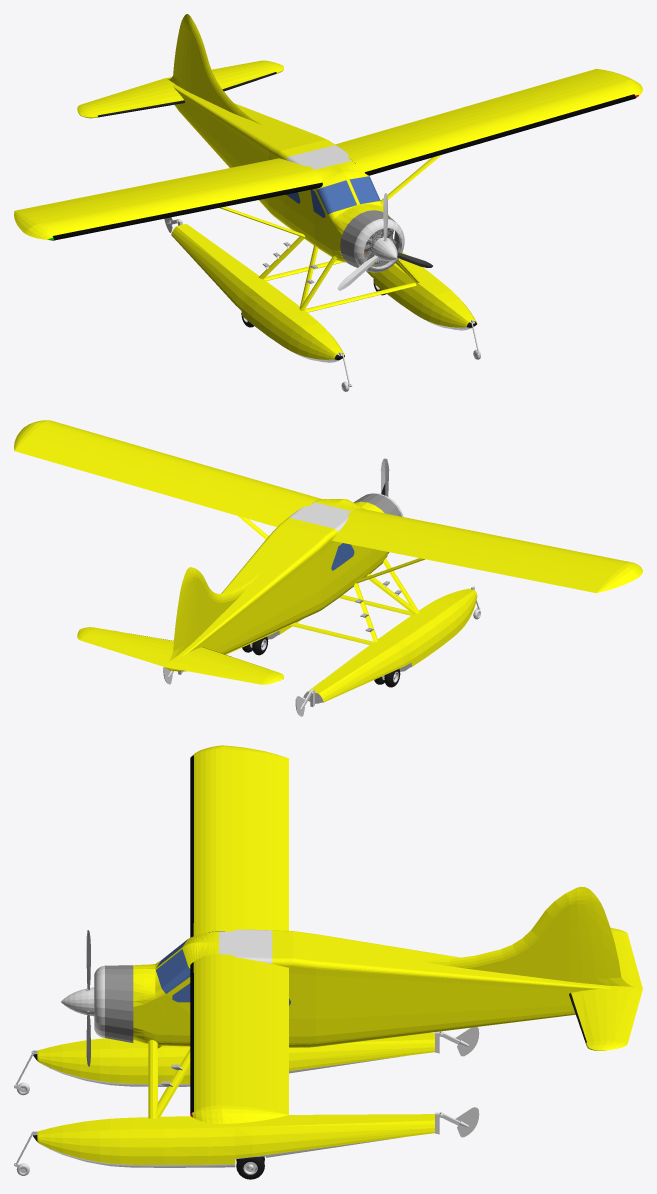
File: De+Havilland-+Final.glb
3 views of the same model, one above another, from view 1: azimuth 30°, elevation 25°; view 2: azimuth 150°, elevation 25°; view 3: azimuth 270°, elevation 25° (orthographic). The views are drawn at different scales.
Parts seen in each view (by area): view 1: _(Loose Entity), C-Componente#48; view 2: _(Loose Entity); view 3: _(Loose Entity), C-Componente#11, C-Componente#11.001, C-Componente#14.
Boxes of the visible parts, x1,y1,x2,y2 form: _(Loose Entity): [14, 14, 642, 362]; C-Componente#48: [337, 193, 432, 290]; _(Loose Entity): [14, 420, 642, 703]; _(Loose Entity): [31, 745, 642, 1167]; C-Componente#11: [435, 1107, 479, 1137]; C-Componente#11.001: [435, 1027, 479, 1056]; C-Componente#14: [61, 987, 94, 1016].
Bounding box in the file's own units: 15 × 4.62 × 10.59.
17 materials, 2 textured.
